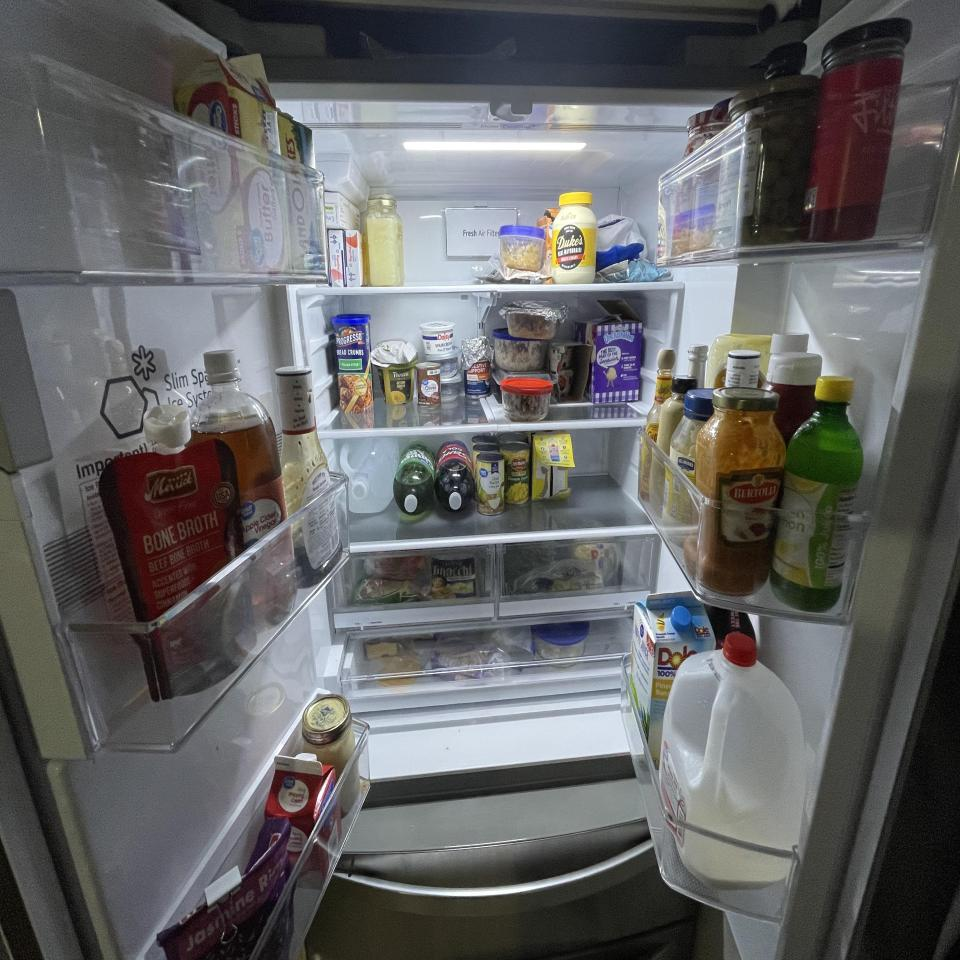Leche: (659, 633, 806, 890)
Mantequilla: (176, 52, 292, 276)
Queso: (376, 654, 422, 687), (365, 641, 397, 660)
Yogur: (420, 321, 456, 355)
mayonnaise: (661, 389, 728, 548), (551, 192, 598, 284)
